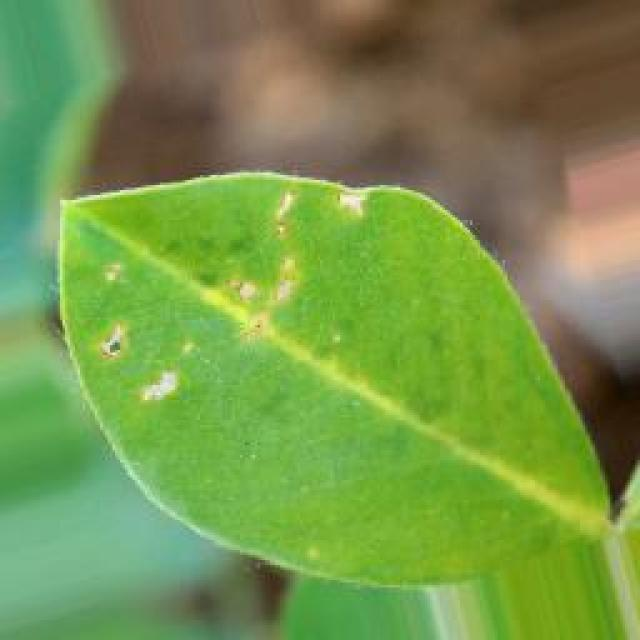Yellow_and_black_sigatoka: (62, 180, 612, 590)
